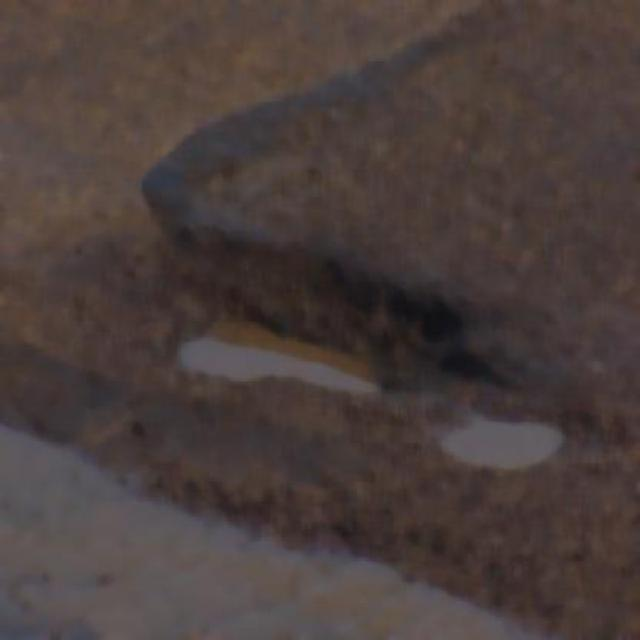Pothole: (186, 298, 383, 396), (423, 388, 566, 461)
